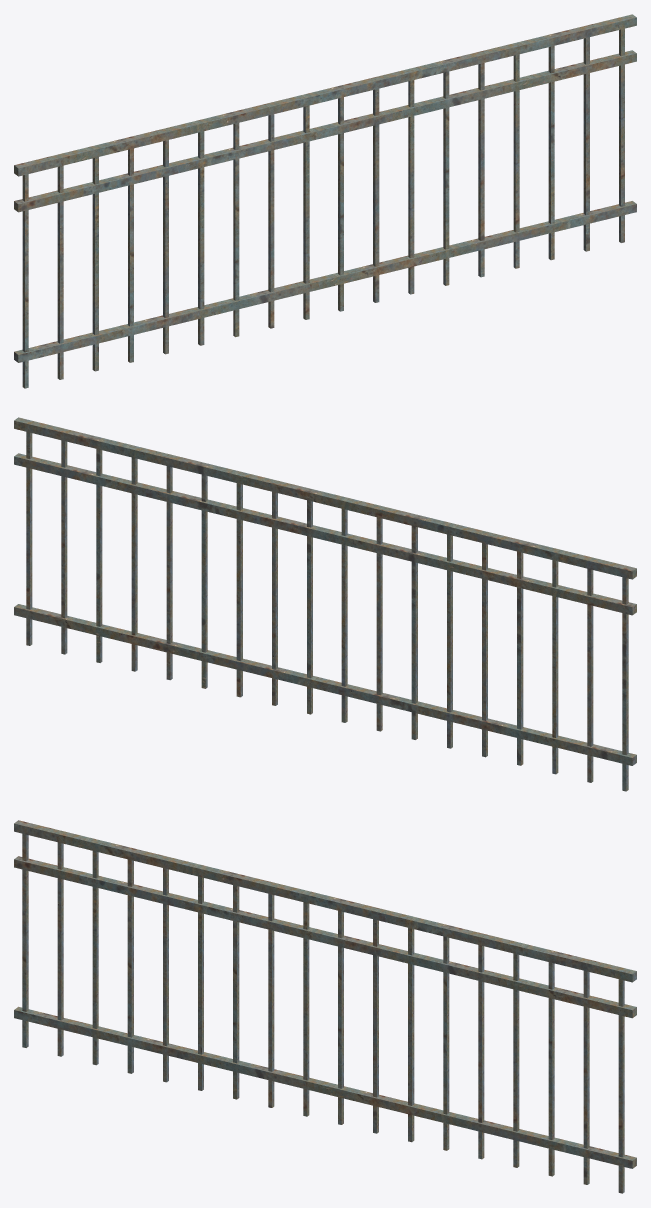
File: fence17.FBX
3 renders of one model, top to bottom at view 1: azimuth 30°, elevation 25°; view 2: azimuth 150°, elevation 25°; view 3: azimuth 330°, elevation 25°, orthographic.
Parts seen in each view (by area): view 1: metal_fence_large_mid_rail_full; view 2: metal_fence_large_mid_rail_full; view 3: metal_fence_large_mid_rail_full.
Part boxes in pixels (x1,y1,x2,y2): metal_fence_large_mid_rail_full: [14, 14, 636, 388]; metal_fence_large_mid_rail_full: [14, 417, 636, 791]; metal_fence_large_mid_rail_full: [14, 820, 636, 1193].
Size of the model in its own units: 504 by 173 by 6.31.
